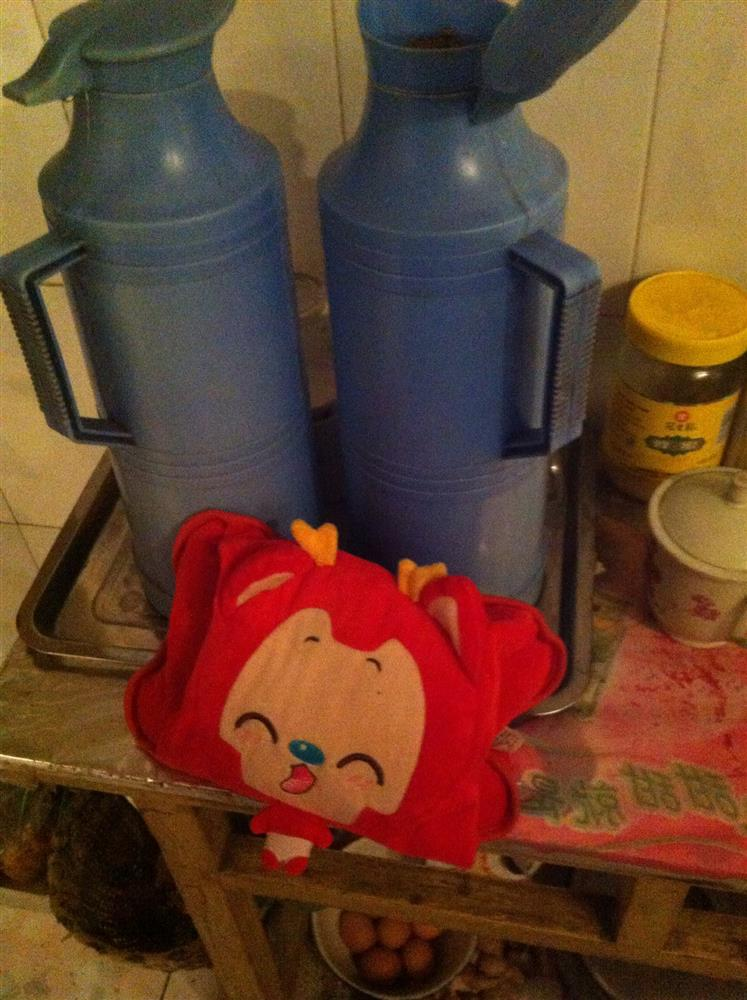Ali: (183, 510, 505, 875)
